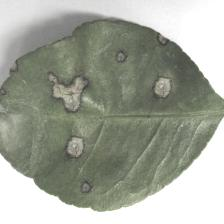canker: (12, 40, 176, 167)
